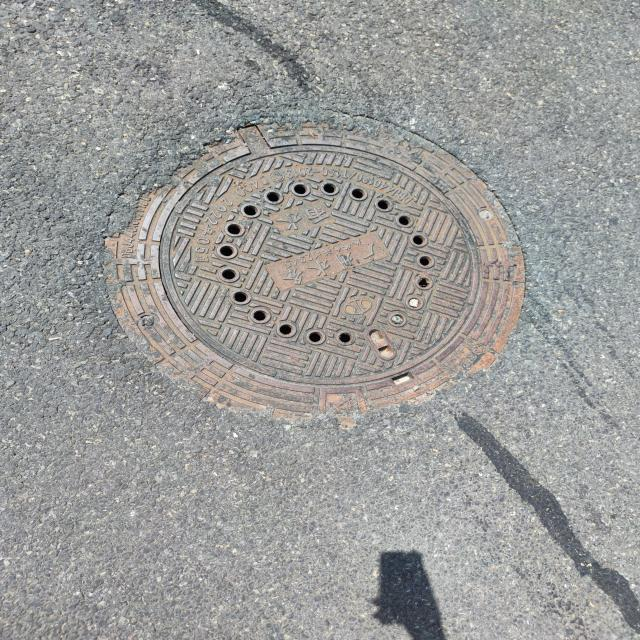Good: (97, 103, 539, 426)
